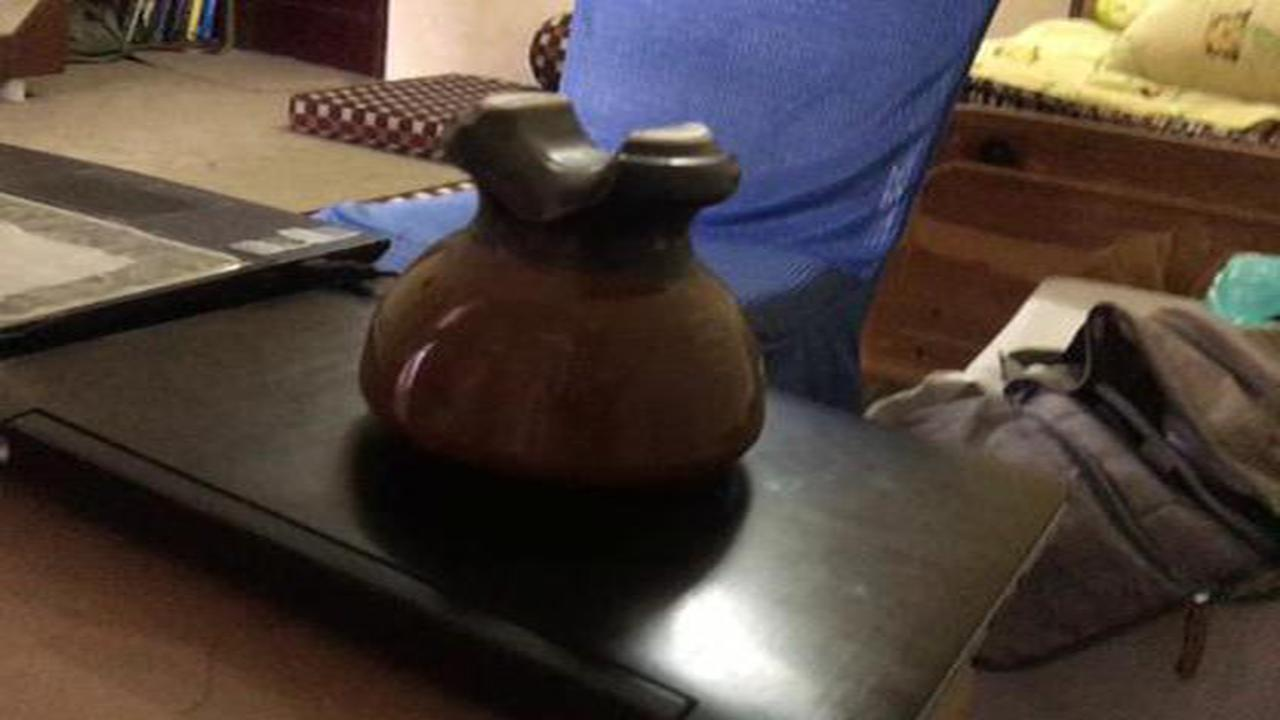insulator_pin: (333, 80, 788, 497)
